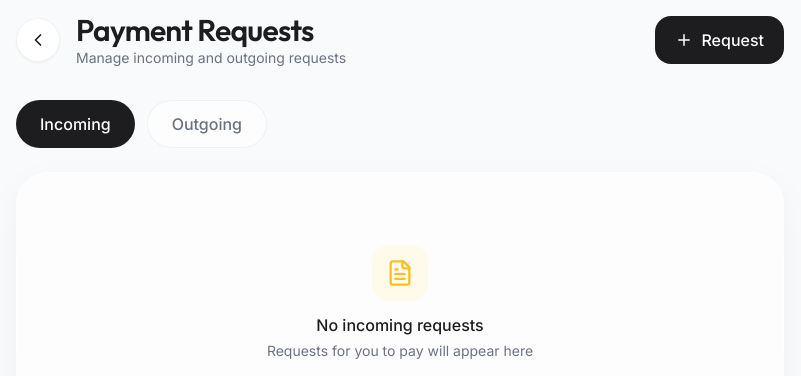
it: Requests — empty states (§15.x) › outgoing empty: 'No outgoing requests' + 'Create a request to get started' copy
This screenshot has width=801, height=376.
Expected: the text "No incoming requests" is shown, x1=316 y1=315 x2=484 y2=335
Click the button "Outgoing" at [207, 124], box x1=147 y1=100 x2=267 y2=148
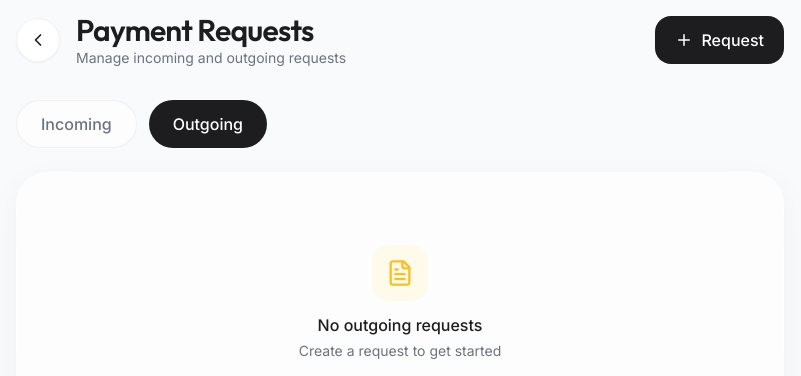
Now the text "No outgoing requests" is shown, box x1=318 y1=315 x2=482 y2=335
Now the text "Create a request to get started" is shown, box x1=299 y1=342 x2=501 y2=359
